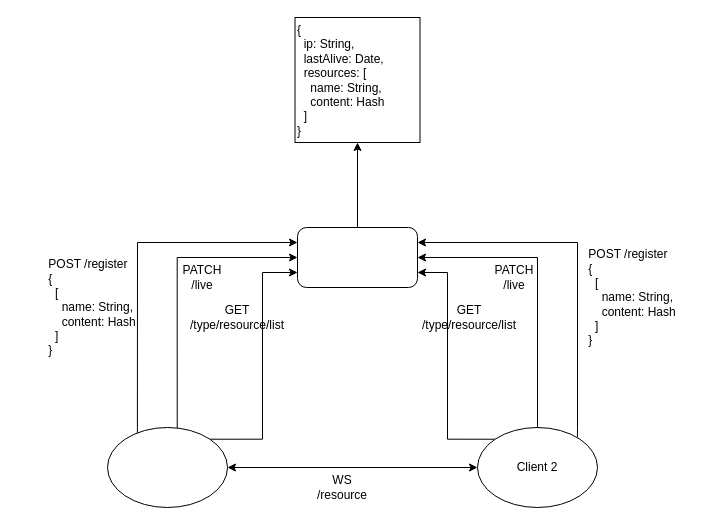
Some shapes in this 724 by 525 pixel diagram are drawn without their labels. The shapes that lost their labels are listed below. From the top down, each one's box as (x1, y1, x2, y2) in pixels, then its label:
(296, 226, 418, 288): Server
(106, 426, 228, 508): Client 1
